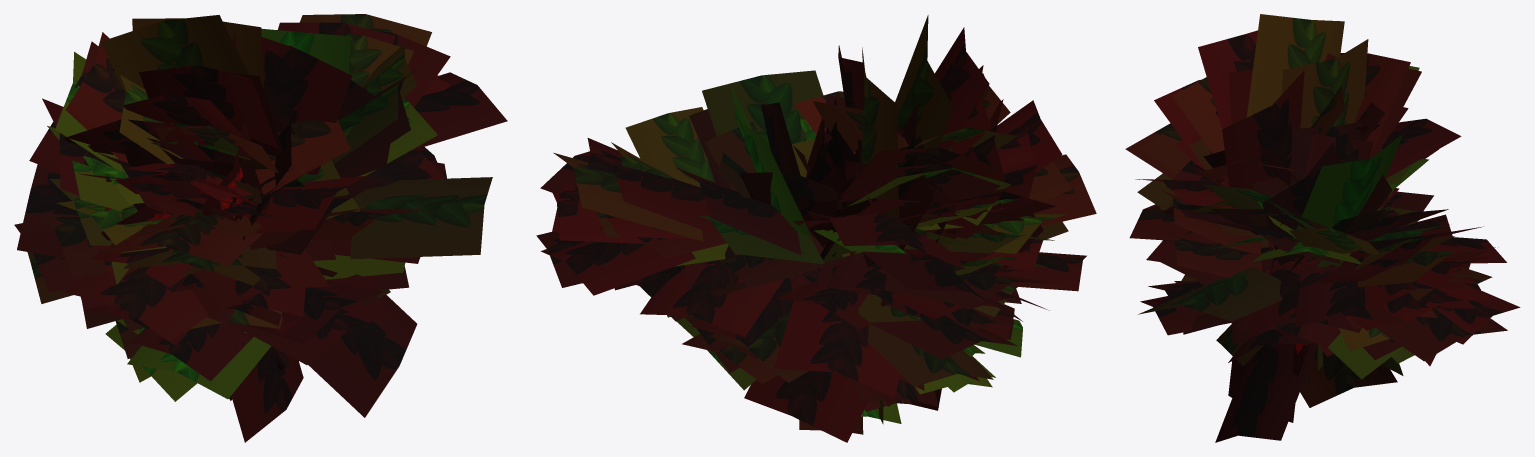
The model's file is veg_bush1.glb.
The picture shows the model from 3 angles, left to right: view 1: azimuth 30°, elevation 25°; view 2: azimuth 150°, elevation 25°; view 3: azimuth 270°, elevation 25°; orthographic projection. The views are drawn at different scales.
Parts seen in each view (by area): view 1: bush_1; view 2: bush_1; view 3: bush_1.
Part boxes in pixels (bbox=[...]): bush_1: bbox=[14, 14, 507, 442]; bush_1: bbox=[536, 15, 1096, 442]; bush_1: bbox=[1125, 14, 1520, 442].
Size of the model in its own units: 1.7 by 1.45 by 1.38.
Materials: 2 (2 with a texture image).
